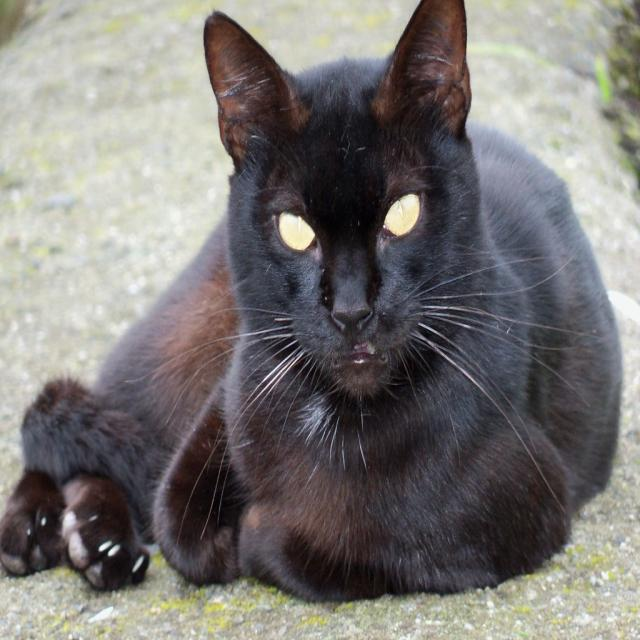Cat: (0, 0, 622, 603)
